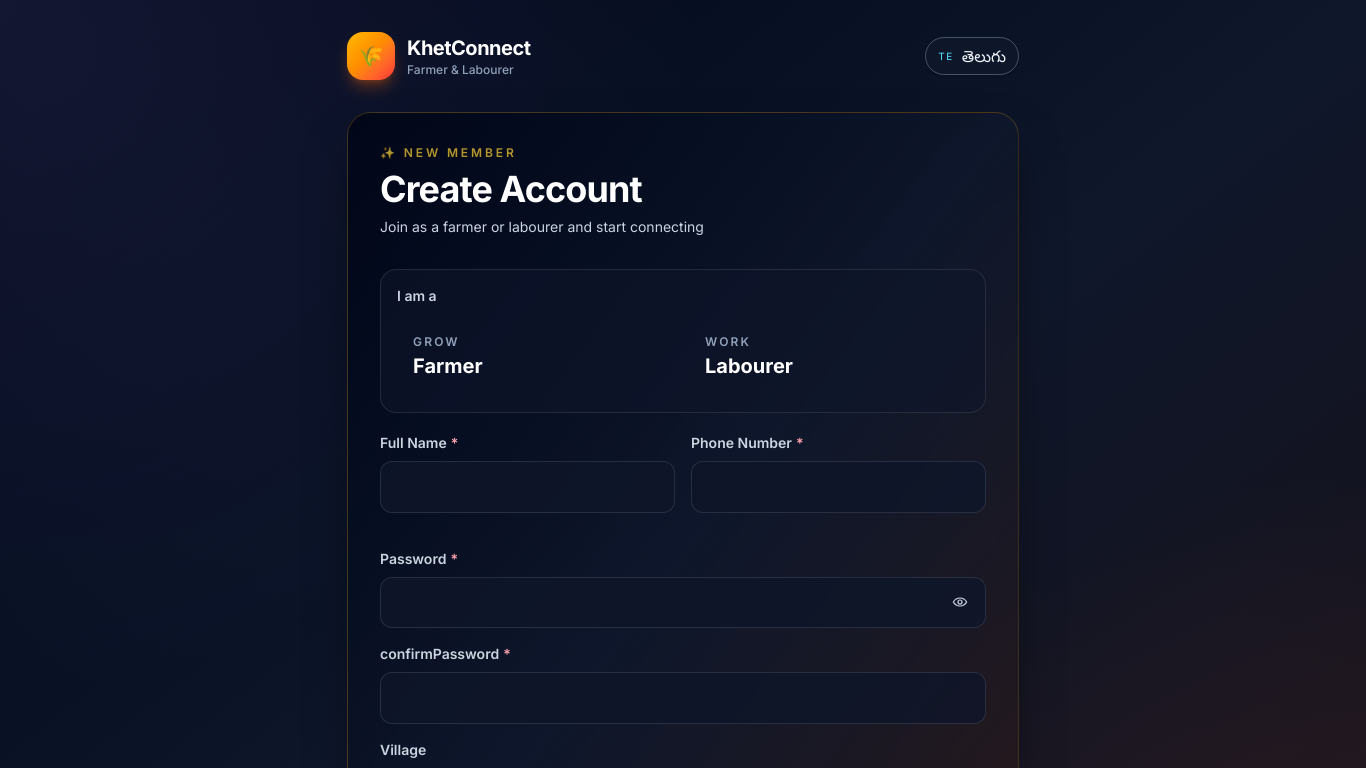
form blocking UX › keeps the register button disabled until all required fields are filled
Type "Veera" into the field labelled "Full Name*". click: (528,487)
box: [380, 461, 675, 513]
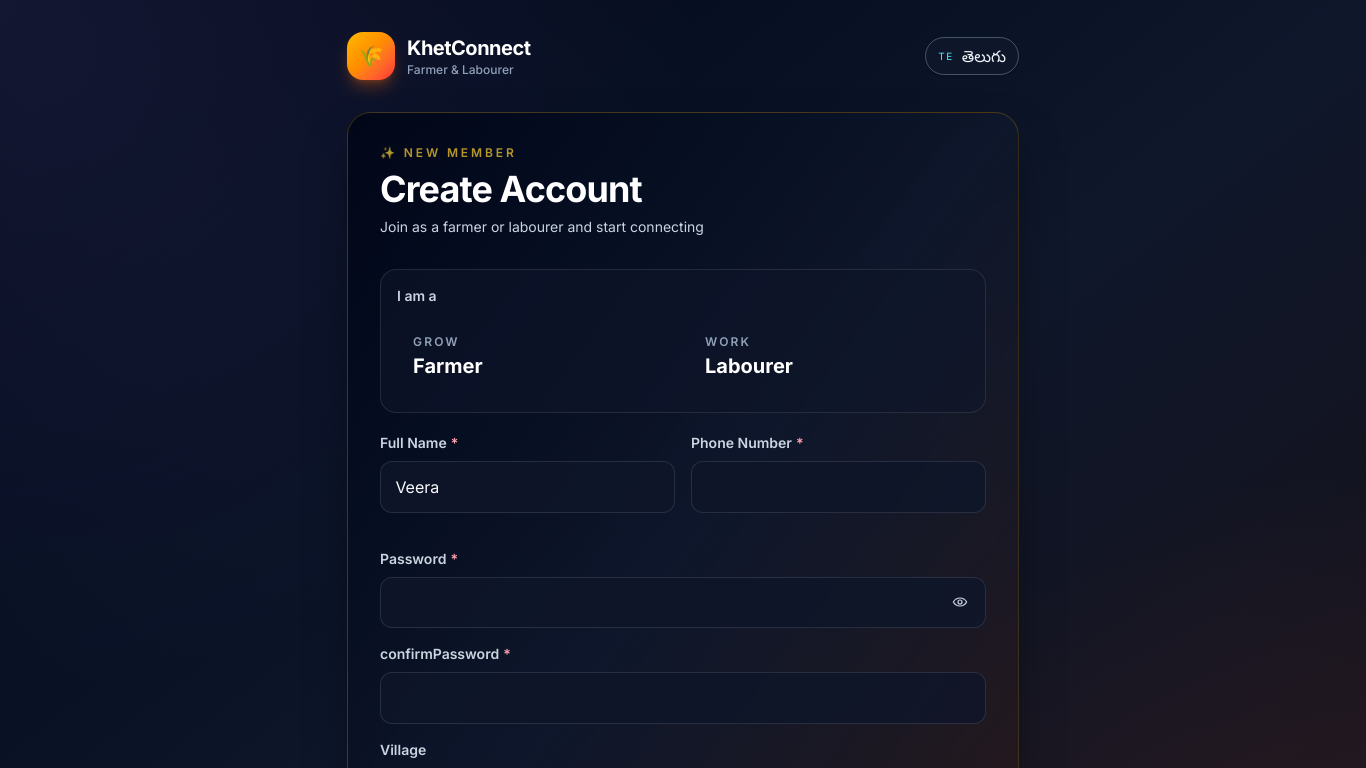
Type "9876543210" into the field labelled "Phone Number*". click: (838,487)
box: [691, 461, 986, 513]
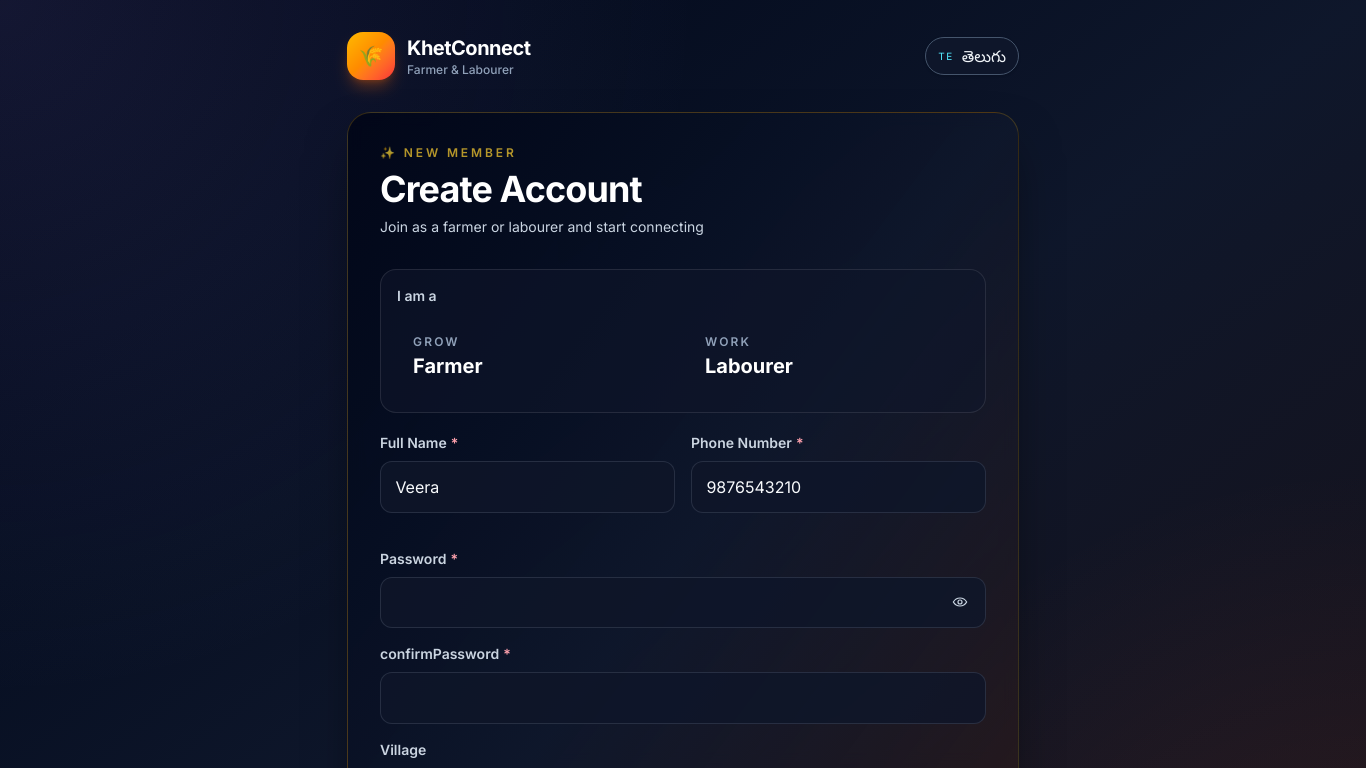
Type "secret123" into the password field labelled "Password*". click: (683,602)
box: [380, 577, 986, 628]
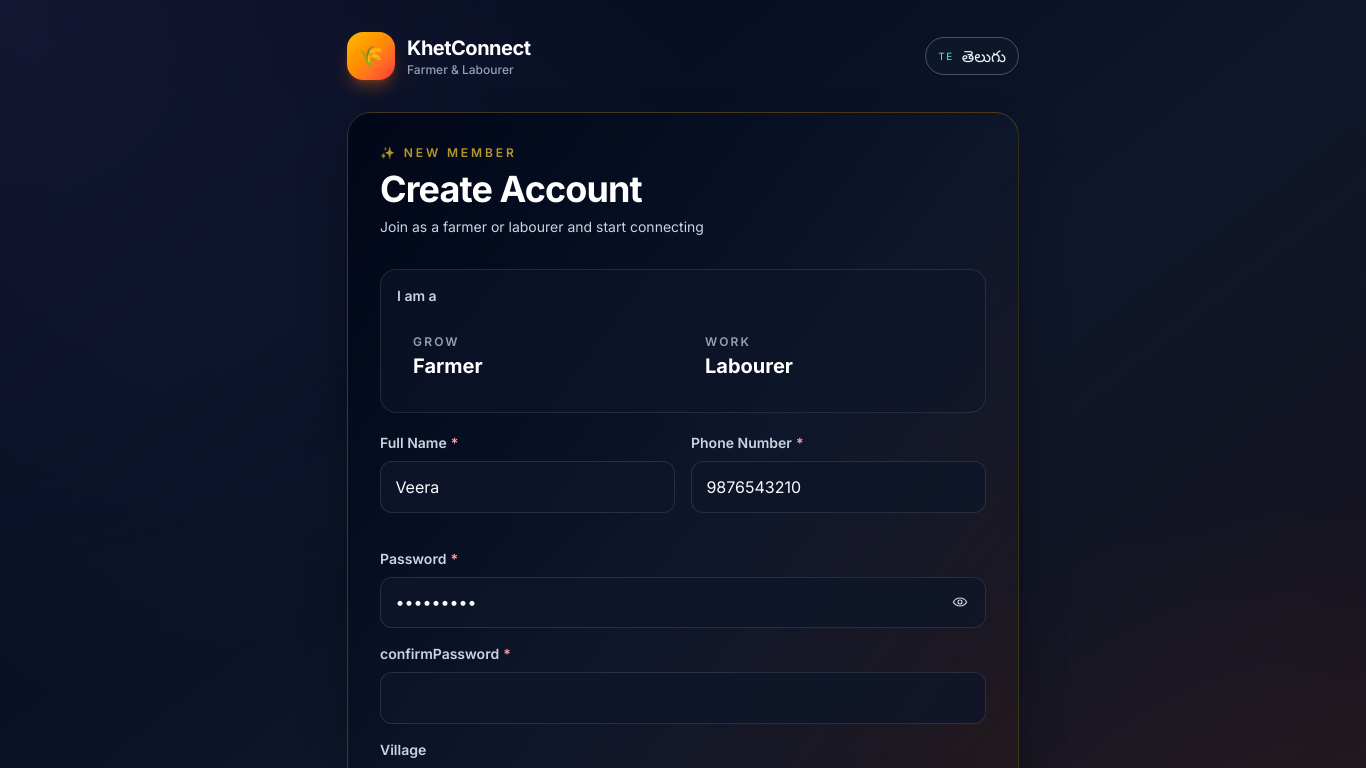
Type "secret123" into the password field labelled "confirmPassword*". click: (683,698)
box: [380, 672, 986, 724]
(page scrolled)
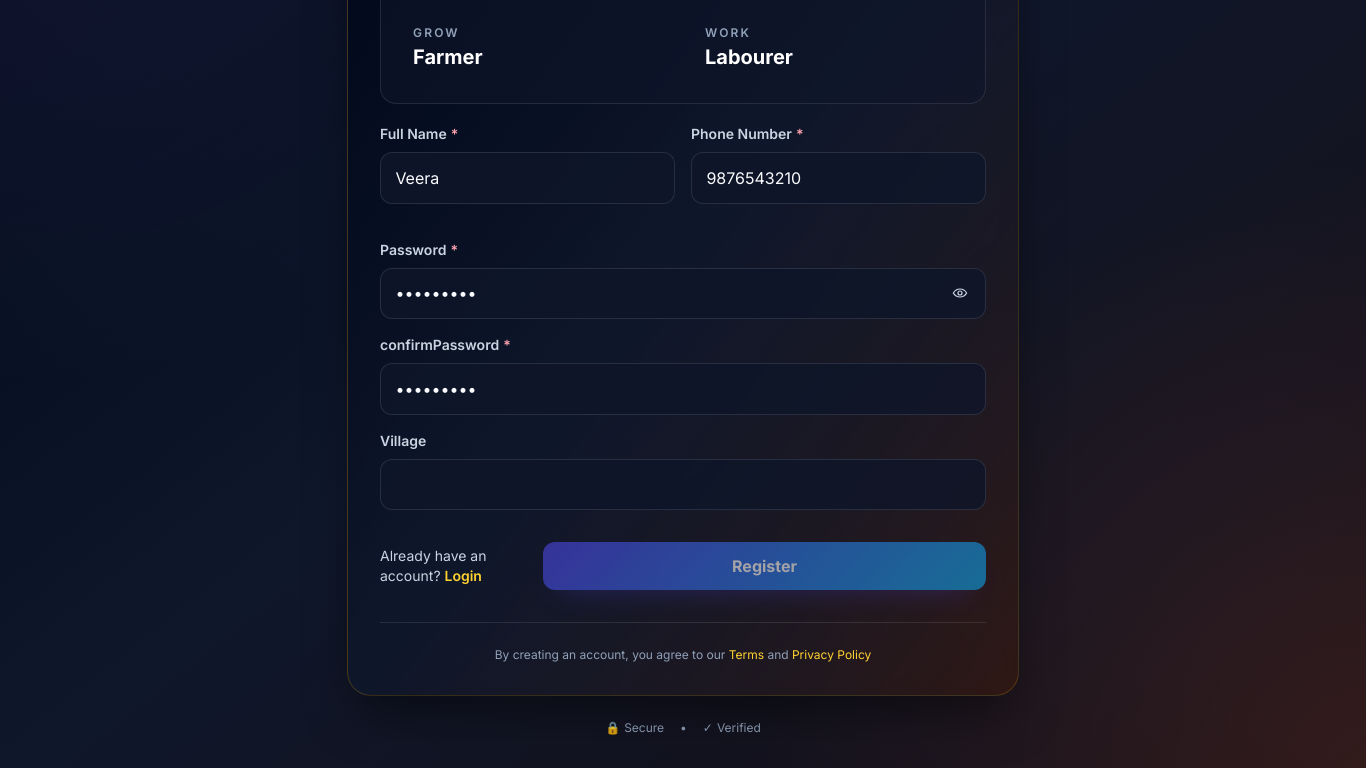
Type "Marripalem" into the field labelled "Village". click: (683,485)
box: [380, 459, 986, 510]
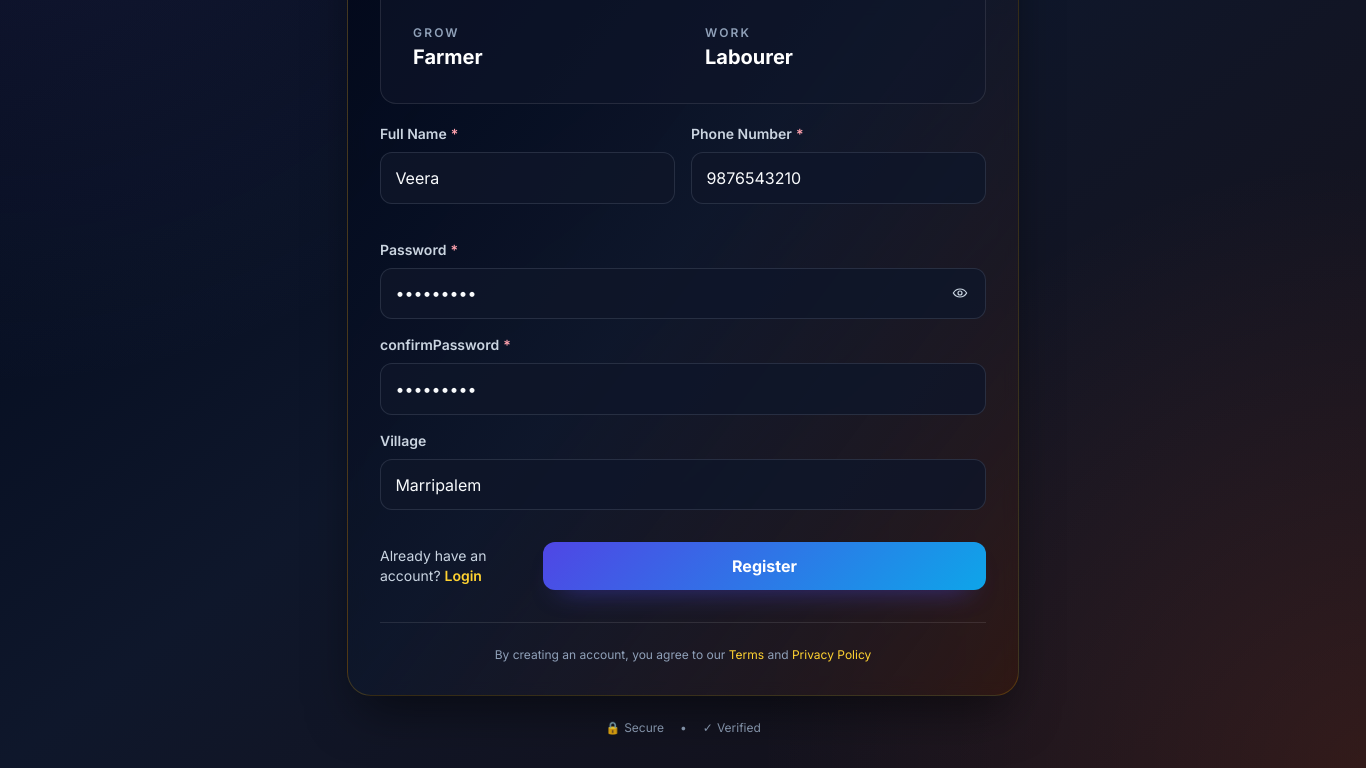
Expected: the button "Register" is enabled, [543, 542, 986, 590]
